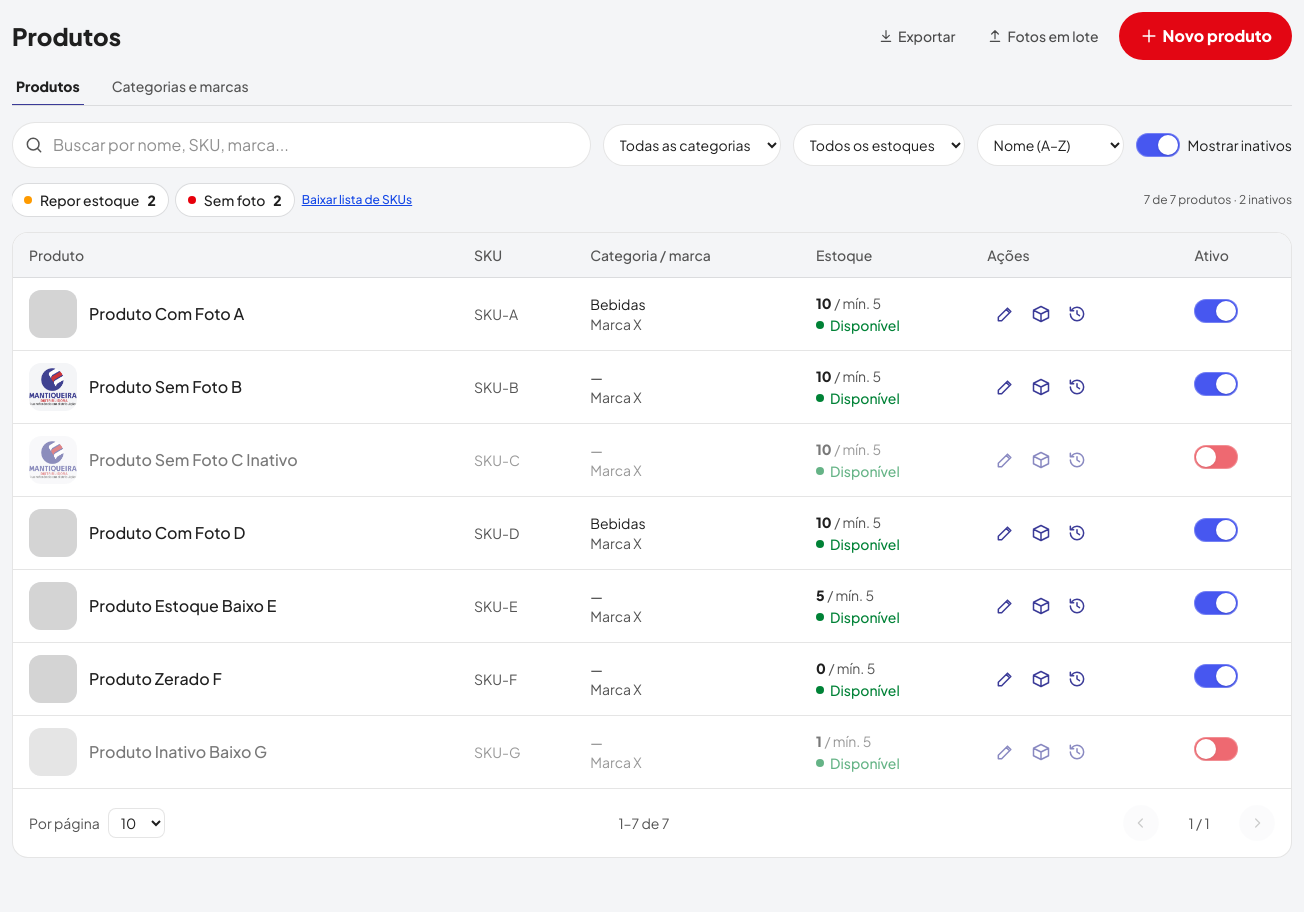
Test: Produtos: cabeçalho, abas e barra de ferramentas › a chave "Mostrar inativos" tem o mesmo texto na tela e no aria-label, não quebra linha e esconde os inativos ao desligar
Expected: the message reads "7 de 7 produtos · 2 inativos", [1144, 192, 1292, 208]
What coordinates should you click on to do the following:
click the switch named "Mostrar inativos"
I would click on:
 (1158, 145)
Its box is [1136, 133, 1180, 157].
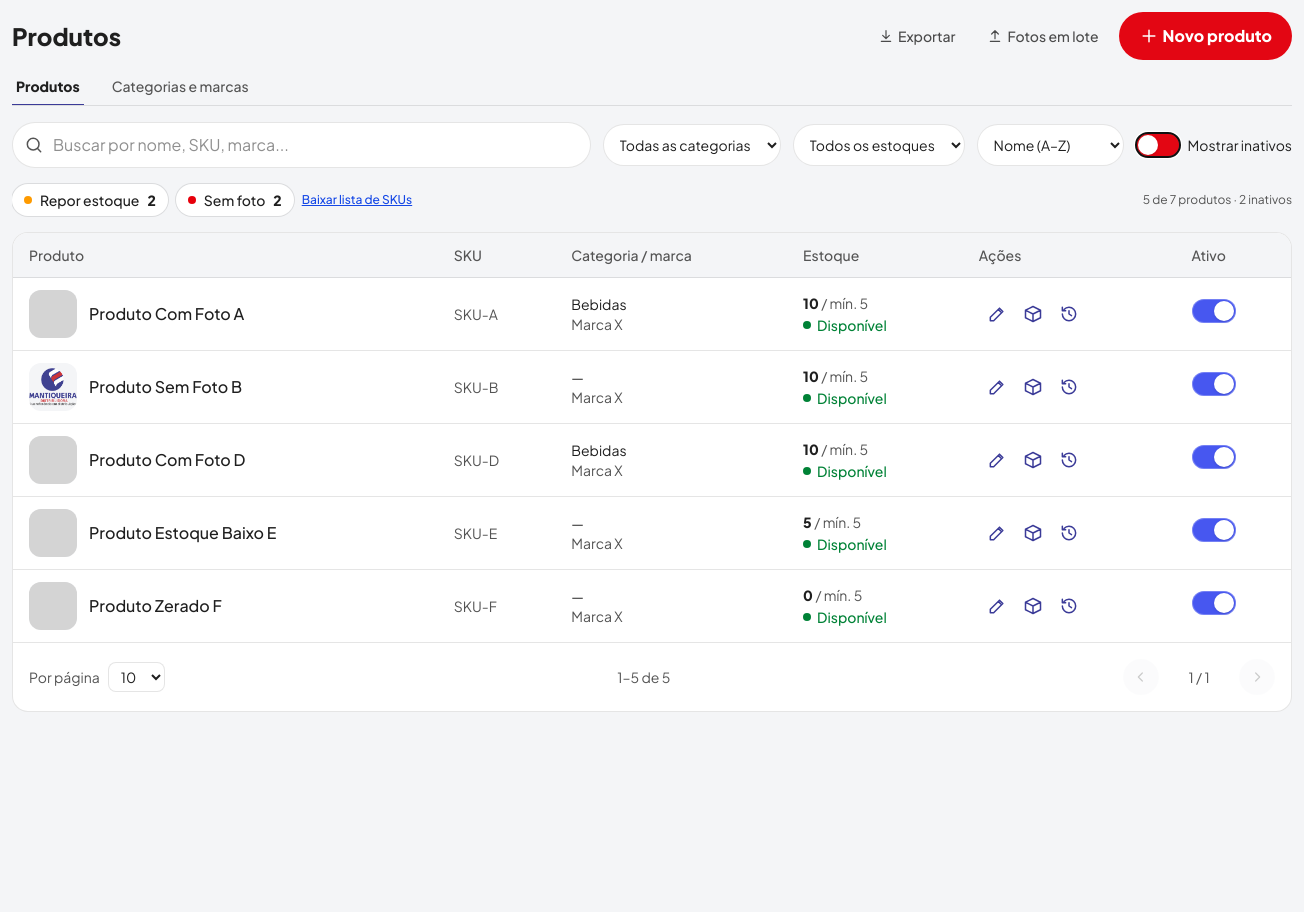
Now the message reads "5 de 7 produtos · 2 inativos", box [1143, 192, 1292, 208]
